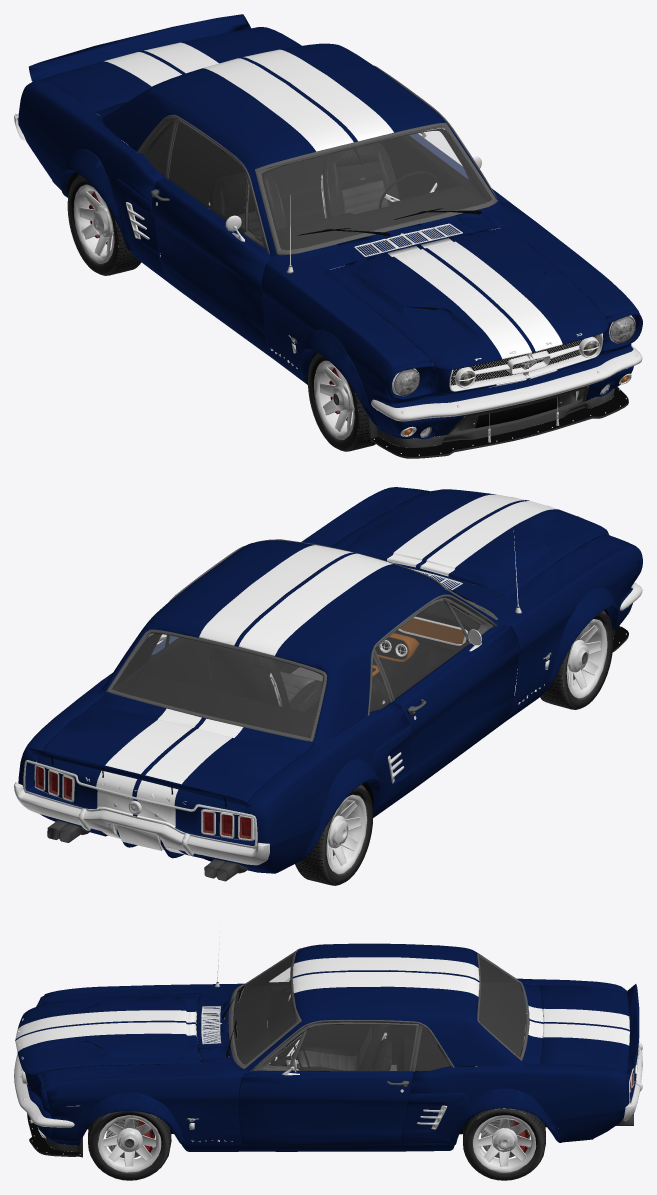
The model's file is ext_mustang_1965.glb.
3 renders of one model, top to bottom at view 1: azimuth 30°, elevation 25°; view 2: azimuth 150°, elevation 25°; view 3: azimuth 270°, elevation 25°, orthographic. The views are drawn at different scales.
Parts seen in each view (by area): view 1: Object_111, Kapoot_7, Object_16, Sandogh Agha_2, Object_193, Object_104, Object_112, Back Pahloo_53, Object_14, Ring Sport Front_100, Object_101, Object_172 (+15 smaller); view 2: Object_111, Sandogh Agha_2, Object_16, Kapoot_7, Object_104, Object_193, Back Pahloo_53, Object_112, Object_14, Ring Sport Front_100, Object_129, Tire Front_101 (+13 smaller); view 3: Object_111, Object_16, Kapoot_7, Object_193, Sandogh Agha_2, Back Pahloo_53, Object_104, Object_112, Ring Sport Front_100, Tire Front_101, Object_172, Object_14 (+12 smaller).
Boxes of the visible parts, bbox=[...] form: Object_111: bbox=[94, 43, 642, 424]; Kapoot_7: bbox=[323, 227, 609, 369]; Object_16: bbox=[143, 121, 490, 249]; Sandogh Agha_2: bbox=[28, 14, 605, 422]; Object_193: bbox=[151, 133, 510, 349]; Object_104: bbox=[143, 68, 490, 249]; Object_112: bbox=[203, 49, 557, 385]; Back Pahloo_53: bbox=[18, 27, 301, 274]; Object_14: bbox=[208, 142, 399, 238]; Ring Sport Front_100: bbox=[73, 184, 358, 439]; Object_101: bbox=[277, 185, 491, 249]; Object_172: bbox=[136, 65, 498, 255]; Object_111: bbox=[95, 487, 642, 817]; Sandogh Agha_2: bbox=[29, 588, 618, 862]; Object_16: bbox=[112, 602, 479, 737]; Kapoot_7: bbox=[331, 489, 608, 596]; Object_104: bbox=[113, 593, 480, 749]; Object_193: bbox=[157, 625, 519, 786]; Back Pahloo_53: bbox=[18, 645, 410, 862]; Object_112: bbox=[158, 545, 392, 737]; Object_14: bbox=[208, 645, 409, 726]; Ring Sport Front_100: bbox=[322, 619, 607, 873]; Object_129: bbox=[14, 782, 269, 865]; Tire Front_101: bbox=[295, 610, 613, 885]; Object_111: bbox=[25, 943, 543, 1151]; Object_16: bbox=[233, 954, 525, 1070]; Kapoot_7: bbox=[15, 993, 200, 1075]; Object_193: bbox=[238, 983, 412, 1144]; Sandogh Agha_2: bbox=[77, 984, 639, 1145]; Back Pahloo_53: bbox=[400, 978, 630, 1144]; Object_104: bbox=[228, 953, 526, 1071]; Object_112: bbox=[292, 957, 543, 1037]; Ring Sport Front_100: bbox=[98, 1036, 536, 1172]; Tire Front_101: bbox=[88, 1019, 545, 1180]; Object_172: bbox=[228, 948, 529, 1087]; Object_14: bbox=[297, 1024, 391, 1071].
Bounding box in the file's own units: 1.85 × 1.43 × 4.61.
Materials: 48 (19 with a texture image).
